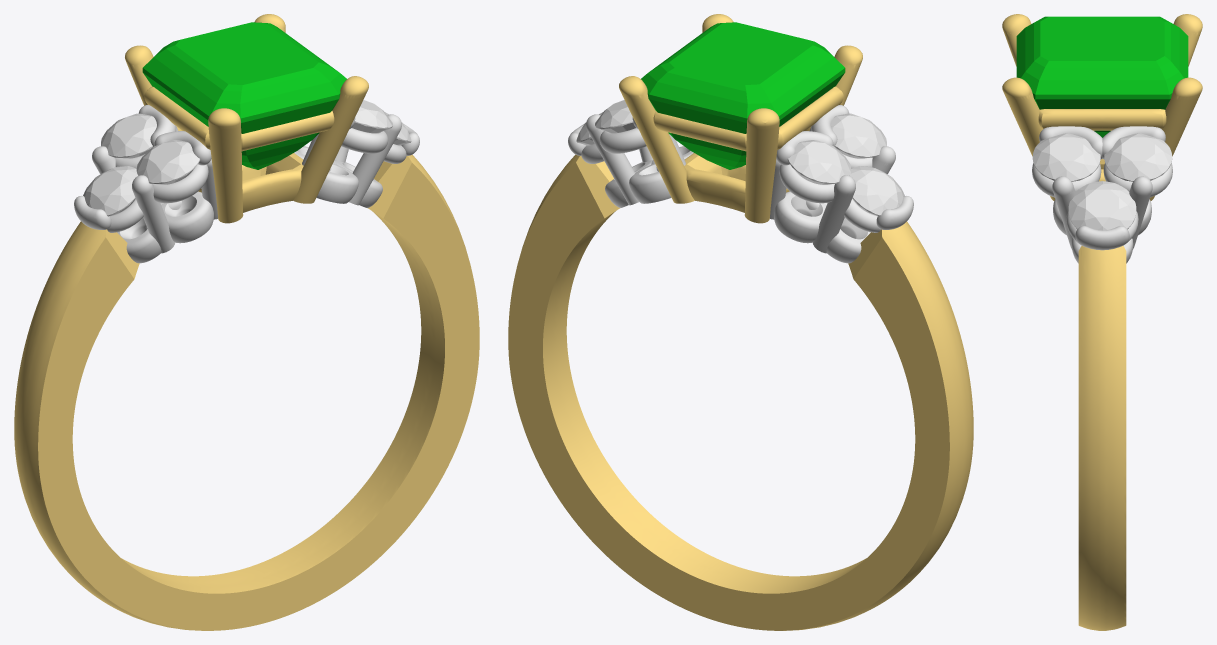
File: Sarah_Ohal_emerald_cluster.glb
3 renders of one model, left to right at view 1: azimuth 30°, elevation 25°; view 2: azimuth 150°, elevation 25°; view 3: azimuth 270°, elevation 25°, orthographic.
Visible parts, largest first — view 1: em cluster YG for 3d model.006, em cluster emerald for 3d model, em cluster YG for 3d model.003, em cluster YG for 3d model.004, em cluster YG for 3d model.001, em cluster YG for 3d model, em cluster dia for 3d model.005, em cluster dia for 3d model.004, em cluster dia for 3d model.003, em cluster PT for 3d model.014, em cluster PT for 3d model.002, em cluster PT for 3d model.009 (+9 smaller); view 2: em cluster YG for 3d model.006, em cluster emerald for 3d model, em cluster YG for 3d model.002, em cluster YG for 3d model.005, em cluster YG for 3d model.001, em cluster YG for 3d model, em cluster dia for 3d model.003, em cluster dia for 3d model.004, em cluster dia for 3d model.005, em cluster PT for 3d model.016, em cluster PT for 3d model.003, em cluster PT for 3d model.010 (+9 smaller); view 3: em cluster YG for 3d model.006, em cluster emerald for 3d model, em cluster dia for 3d model.001, em cluster dia for 3d model, em cluster dia for 3d model.002, em cluster YG for 3d model.001, em cluster YG for 3d model.004, em cluster YG for 3d model.005, em cluster PT for 3d model.020, em cluster PT for 3d model.021, em cluster PT for 3d model.022, em cluster PT for 3d model.009 (+7 smaller).
Part boxes in pixels (bbox=[...]): em cluster YG for 3d model.006: bbox=[14, 154, 479, 630]; em cluster emerald for 3d model: bbox=[142, 22, 346, 169]; em cluster YG for 3d model.003: bbox=[208, 108, 243, 223]; em cluster YG for 3d model.004: bbox=[293, 76, 368, 203]; em cluster YG for 3d model.001: bbox=[144, 86, 334, 151]; em cluster YG for 3d model: bbox=[198, 153, 303, 212]; em cluster dia for 3d model.005: bbox=[136, 140, 199, 184]; em cluster dia for 3d model.004: bbox=[83, 166, 137, 216]; em cluster dia for 3d model.003: bbox=[101, 113, 156, 158]; em cluster PT for 3d model.014: bbox=[161, 191, 213, 243]; em cluster PT for 3d model.002: bbox=[132, 175, 174, 253]; em cluster PT for 3d model.009: bbox=[349, 114, 401, 205]; em cluster YG for 3d model.006: bbox=[508, 154, 973, 630]; em cluster emerald for 3d model: bbox=[641, 22, 845, 169]; em cluster YG for 3d model.002: bbox=[744, 108, 779, 223]; em cluster YG for 3d model.005: bbox=[619, 76, 694, 203]; em cluster YG for 3d model.001: bbox=[653, 86, 843, 151]; em cluster YG for 3d model: bbox=[684, 153, 789, 212]; em cluster dia for 3d model.003: bbox=[787, 140, 851, 184]; em cluster dia for 3d model.004: bbox=[850, 166, 904, 216]; em cluster dia for 3d model.005: bbox=[831, 113, 886, 158]; em cluster PT for 3d model.016: bbox=[774, 191, 826, 243]; em cluster PT for 3d model.003: bbox=[813, 175, 855, 253]; em cluster PT for 3d model.010: bbox=[586, 114, 638, 205]; em cluster YG for 3d model.006: bbox=[1078, 164, 1126, 630]; em cluster emerald for 3d model: bbox=[1016, 16, 1188, 137]; em cluster dia for 3d model.001: bbox=[1068, 181, 1136, 230]; em cluster dia for 3d model: bbox=[1104, 133, 1172, 181]; em cluster dia for 3d model.002: bbox=[1032, 133, 1100, 181]; em cluster YG for 3d model.001: bbox=[1038, 109, 1166, 130]; em cluster YG for 3d model.004: bbox=[1002, 77, 1055, 200]; em cluster YG for 3d model.005: bbox=[1149, 77, 1202, 200]; em cluster PT for 3d model.020: bbox=[1075, 226, 1129, 250]; em cluster PT for 3d model.021: bbox=[1102, 126, 1165, 159]; em cluster PT for 3d model.022: bbox=[1039, 126, 1102, 159]; em cluster PT for 3d model.009: bbox=[1052, 176, 1075, 248].
Bounding box in the file's own units: 20.72 × 24.9 × 7.97.
